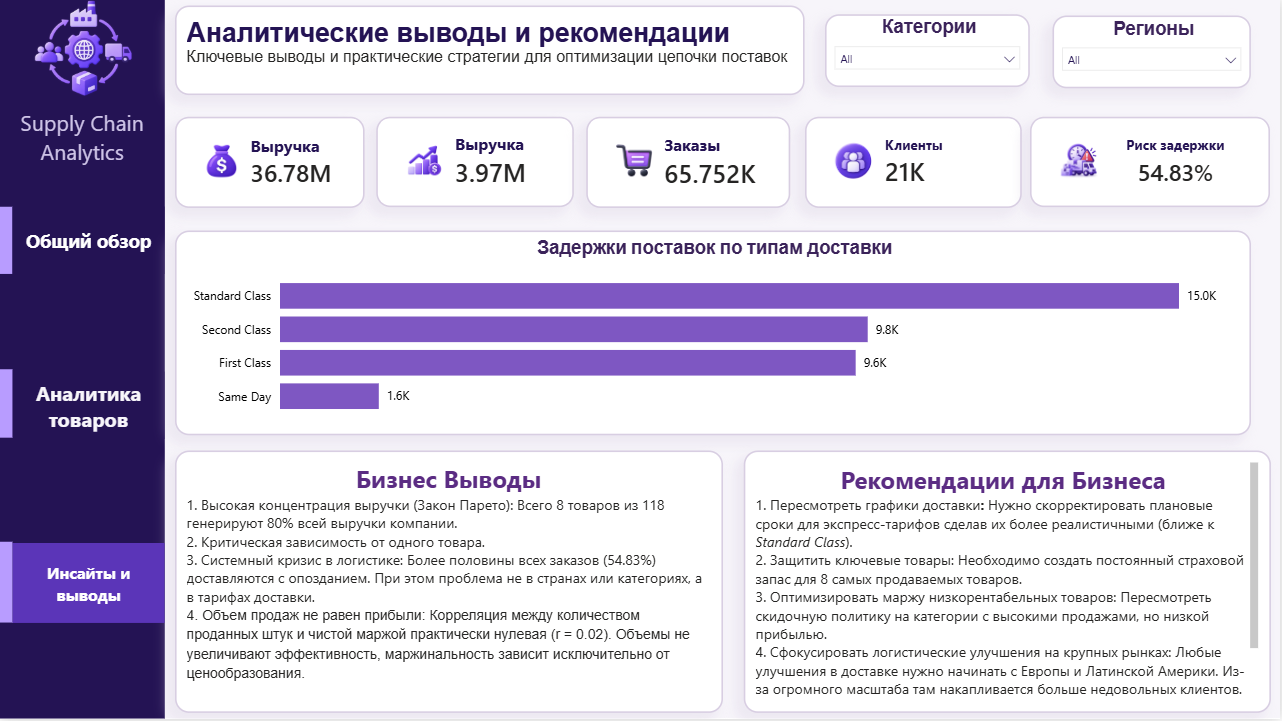

The dashboard page shown, as its layout file describes it:
{"tool":"powerbi","page":{"name":"Инсайты и выводы","canvas":[1280,720],"ordinal":2},"visuals":[{"type":"cardVisual","fields":{"Data":["DataCoSupplyChainDataset.Total Profit"]},"box":[376.5,118.6,197.3,90.3],"z":0},{"type":"cardVisual","fields":{"Data":["DataCoSupplyChainDataset.Total Sales"]},"box":[174.8,118.2,189.6,91.1],"z":1000},{"type":"shape","box":[0,0,164.9,720.6],"z":2000},{"type":"actionButton","box":[12.5,373.8,152.2,67.2],"z":3000},{"type":"shape","box":[0,208.6,12.4,67.2],"z":4000},{"type":"actionButton","box":[12.3,208.6,152.2,67.2],"z":9000},{"type":"shape","box":[0,371.2,12.4,68.4],"z":10000},{"type":"textbox","box":[0,87.1,164.4,99.4],"z":11000},{"type":"textbox","box":[175,7,629.5,89.6],"z":12000},{"type":"cardVisual","fields":{"Data":["DataCoSupplyChainDataset.Total Orders"]},"box":[586,118.2,204.3,91.1],"z":13000},{"type":"cardVisual","fields":{"Data":["DataCoSupplyChainDataset.Total Customers"]},"box":[805.1,118.2,216.7,91.1],"z":14000},{"type":"slicer","title":"Регионы","fields":{"Values":["DimMarket.Market"]},"box":[1052.5,17.5,198.8,72.5],"z":15000},{"type":"image","box":[22.1,0,121.5,103.1],"z":16000},{"type":"slicer","title":"Категории","fields":{"Values":["DimProduct.Category Name"]},"box":[825,16.2,205,72.5],"z":17000},{"type":"cardVisual","fields":{"Data":["DataCoSupplyChainDataset.Late Delivery Risk %"]},"box":[1030.1,118.6,239.8,90.3],"z":20000},{"type":"clusteredBarChart","title":"Задержки поставок по типам доставки","fields":{"Category":["DataCoSupplyChainDataset.Shipping Mode"],"Y":["DataCoSupplyChainDataset.Late Deliveries"]},"box":[175,232.5,1076.2,205],"z":21000},{"type":"textbox","box":[174.8,453,547.8,262.2],"z":22000},{"type":"textbox","box":[743.5,453,526.9,262.2],"z":23000},{"type":"actionButton","box":[12.5,545,152.2,79.9],"z":24000},{"type":"shape","box":[0,543.8,12.4,80.9],"z":25000}]}

Visuals, with their boxes on the page's 1280x720 design canvas (x1, y1, x2, y2). These are canvas units, not pixel positions in the 1282x721 screenshot, which may show the page scaled, cropped or inside an application window:
cardVisual - DataCoSupplyChainDataset.Total Profit: Rect(376, 119, 574, 209)
cardVisual - DataCoSupplyChainDataset.Total Sales: Rect(175, 118, 364, 209)
shape: Rect(0, 0, 165, 721)
actionButton: Rect(12, 374, 165, 441)
shape: Rect(0, 209, 12, 276)
actionButton: Rect(12, 209, 164, 276)
shape: Rect(0, 371, 12, 440)
textbox: Rect(0, 87, 164, 186)
textbox: Rect(175, 7, 804, 97)
cardVisual - DataCoSupplyChainDataset.Total Orders: Rect(586, 118, 790, 209)
cardVisual - DataCoSupplyChainDataset.Total Customers: Rect(805, 118, 1022, 209)
"Регионы" slicer: Rect(1052, 18, 1251, 90)
image: Rect(22, 0, 144, 103)
"Категории" slicer: Rect(825, 16, 1030, 89)
cardVisual - DataCoSupplyChainDataset.Late Delivery Risk %: Rect(1030, 119, 1270, 209)
"Задержки поставок по типам доставки" clusteredBarChart: Rect(175, 232, 1251, 438)
textbox: Rect(175, 453, 723, 715)
textbox: Rect(744, 453, 1270, 715)
actionButton: Rect(12, 545, 165, 625)
shape: Rect(0, 544, 12, 625)
